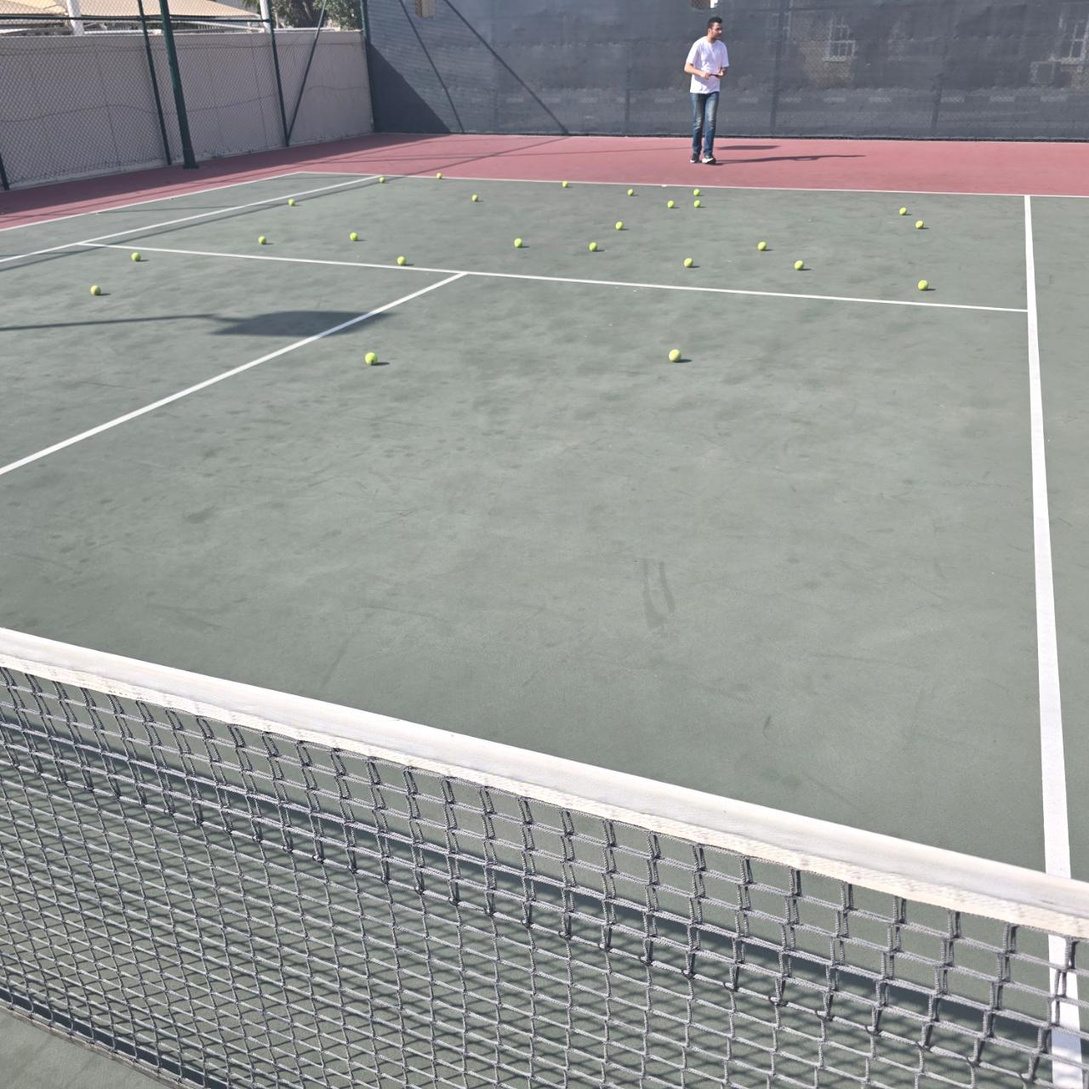tennis-ball: (669, 346, 682, 362), (365, 351, 379, 365), (91, 284, 102, 295), (918, 279, 929, 290), (683, 257, 694, 268), (794, 260, 804, 271), (131, 251, 141, 262), (397, 256, 407, 266), (915, 220, 925, 229), (758, 241, 767, 251), (615, 221, 624, 231), (589, 242, 598, 252), (349, 232, 358, 241), (258, 236, 267, 245), (514, 238, 523, 247), (899, 207, 907, 216), (627, 188, 635, 197), (471, 194, 479, 202), (667, 200, 674, 208), (694, 200, 701, 208), (693, 188, 700, 196), (288, 199, 295, 206), (562, 181, 569, 188), (378, 177, 385, 184), (436, 172, 442, 180)
